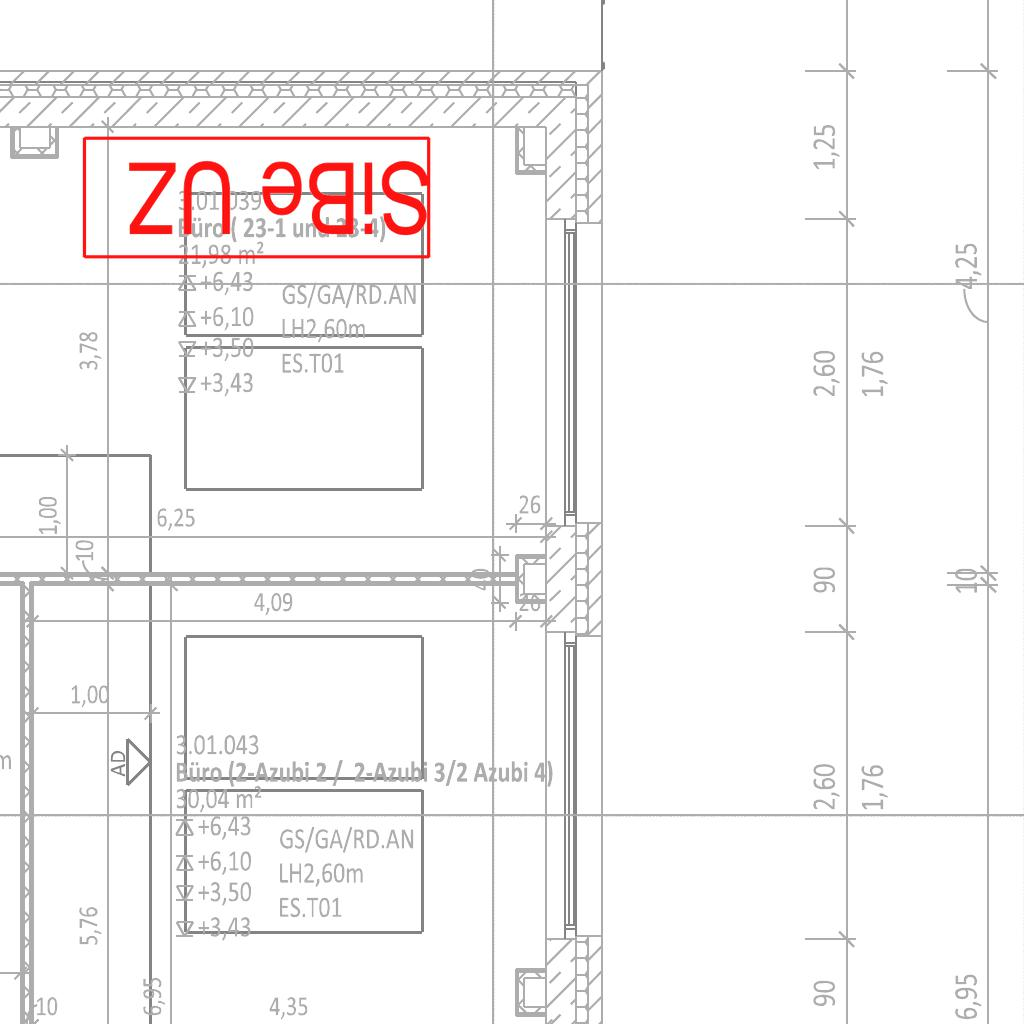Zentrale_Sicherheitsbeleuchtung: (77, 132, 434, 262)
